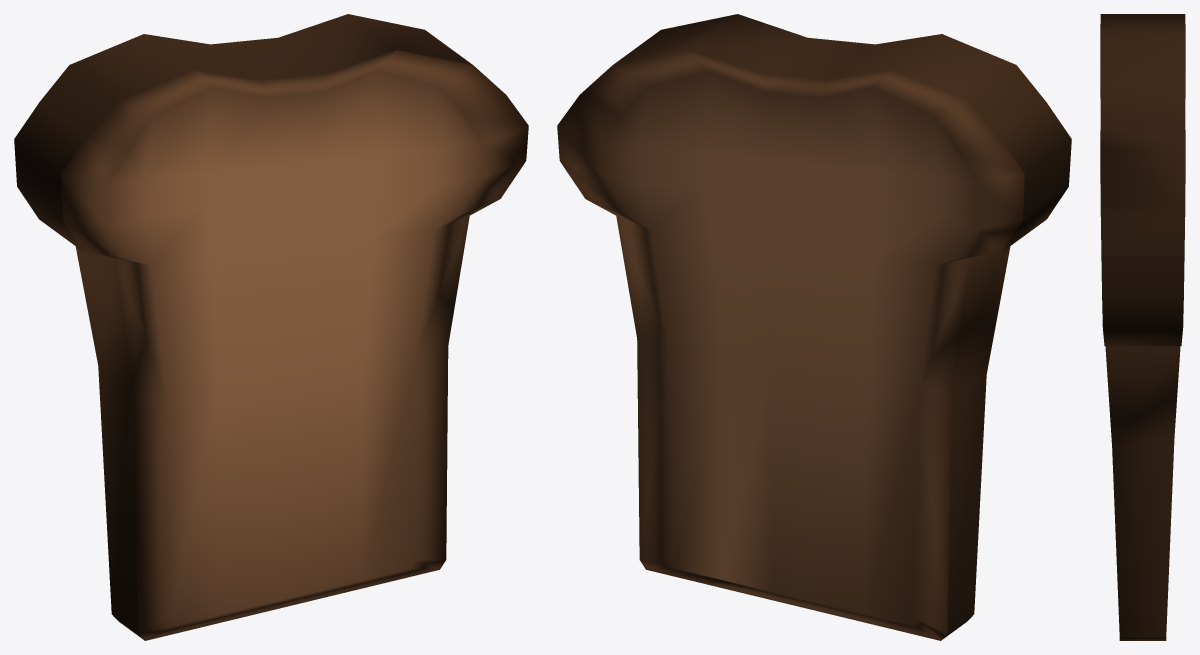
The model's file is Bread.fbx.
3 renders of one model, left to right at view 1: azimuth 30°, elevation 25°; view 2: azimuth 150°, elevation 25°; view 3: azimuth 270°, elevation 25°, orthographic. The views are drawn at different scales.
Parts seen in each view (by area): view 1: Bread_Model; view 2: Bread_Model; view 3: Bread_Model.
Boxes of the visible parts, bbox=[...] form: Bread_Model: bbox=[14, 14, 528, 640]; Bread_Model: bbox=[557, 14, 1071, 640]; Bread_Model: bbox=[1100, 14, 1185, 640].
Size of the model in its own units: 455 by 531 by 82.85.
